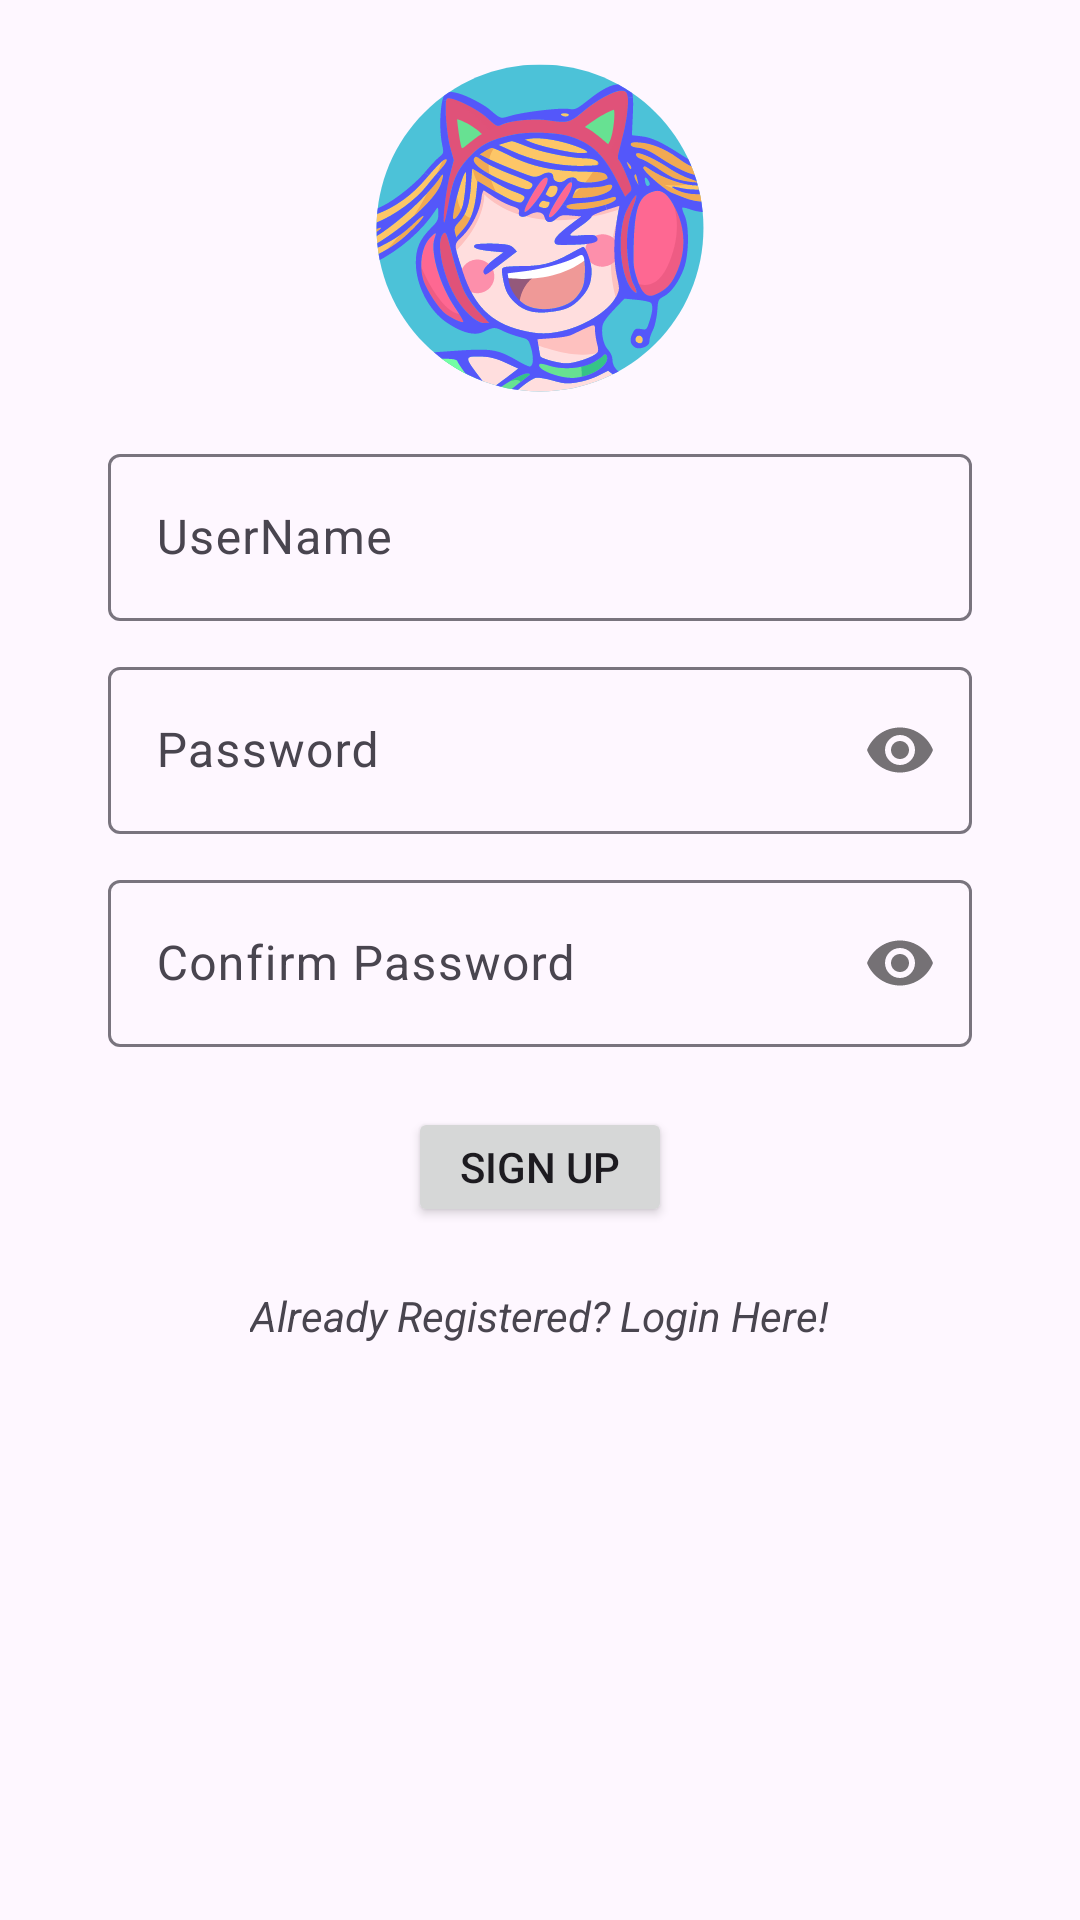

Icon bounding boxes for this 1080w x 1920h phone screenshot, format (x1, y1, x2, y2):
girl: (376, 64, 704, 392)
